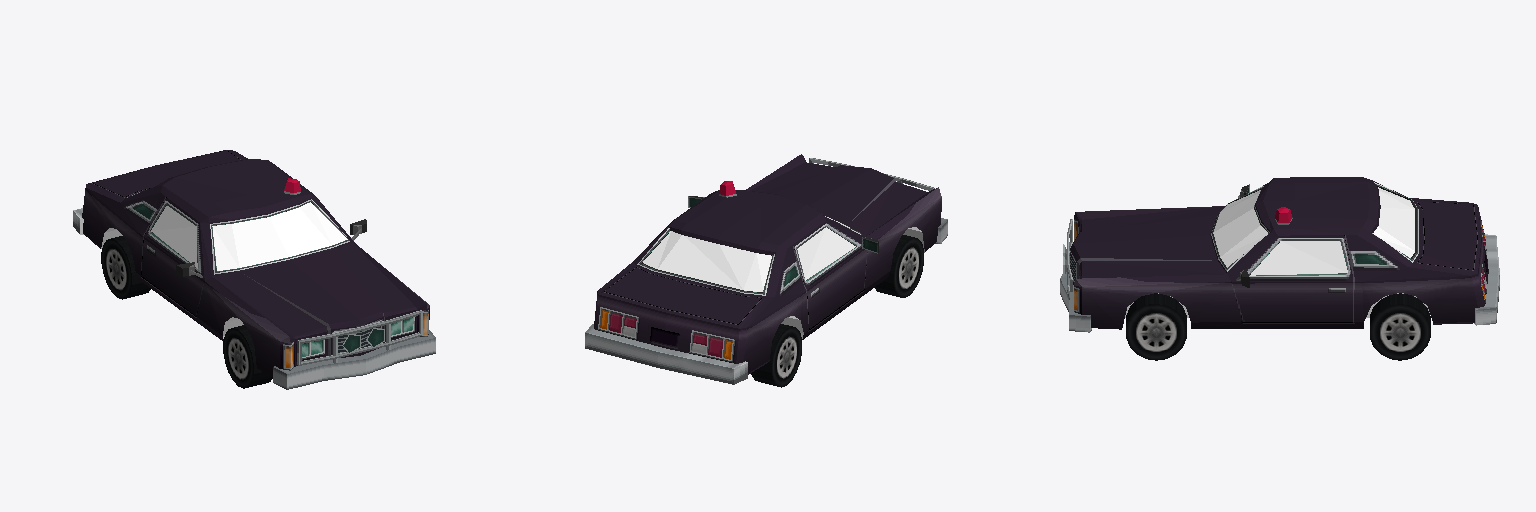
3 renders of one model, left to right at view 1: azimuth 30°, elevation 25°; view 2: azimuth 150°, elevation 25°; view 3: azimuth 270°, elevation 25°, orthographic.
Parts seen in each view (by area): view 1: cSedanShape; view 2: cSedanShape; view 3: cSedanShape.
Part boxes in pixels (x1,y1,x2,y2): cSedanShape: (73,150,435,389); cSedanShape: (585,154,947,387); cSedanShape: (1060,177,1499,360).
Size of the model in its own units: 2.75 by 1.83 by 5.52.
8 materials, 6 textured.